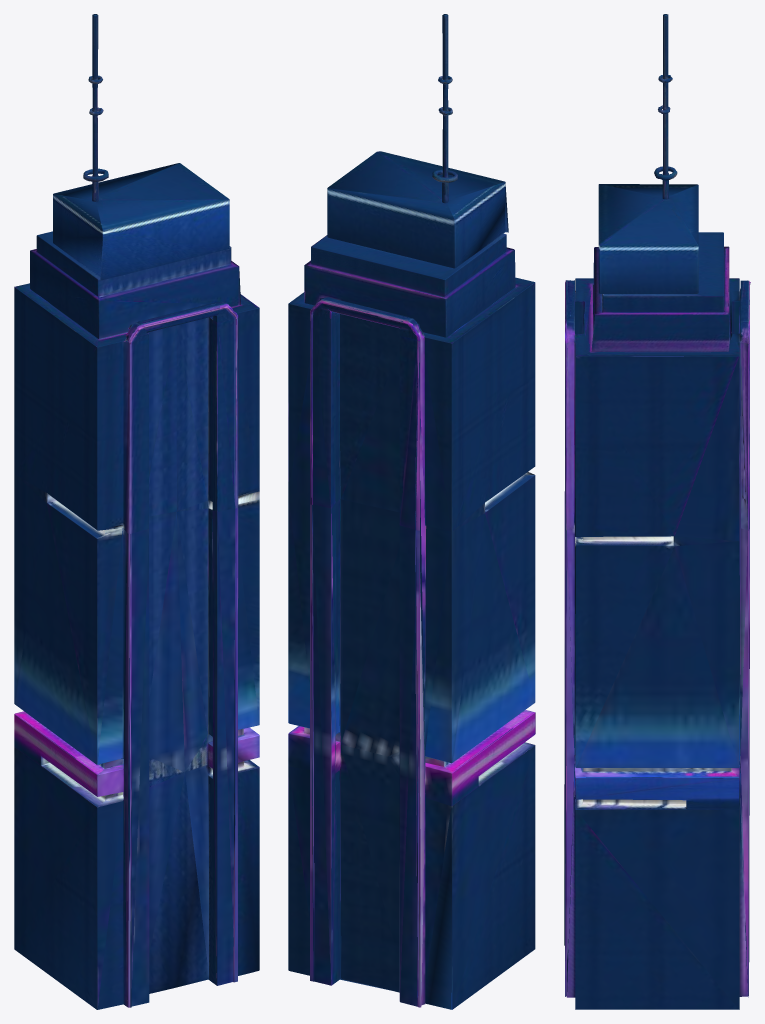
The model's file is neon_tower.glb.
3 views of the same model, side by side, from view 1: azimuth 30°, elevation 25°; view 2: azimuth 150°, elevation 25°; view 3: azimuth 270°, elevation 25° (orthographic). The views are drawn at different scales.
Bounding box in the file's own units: 0.1704 × 0.9517 × 0.1714.
Materials: 1 (1 with a texture image).
